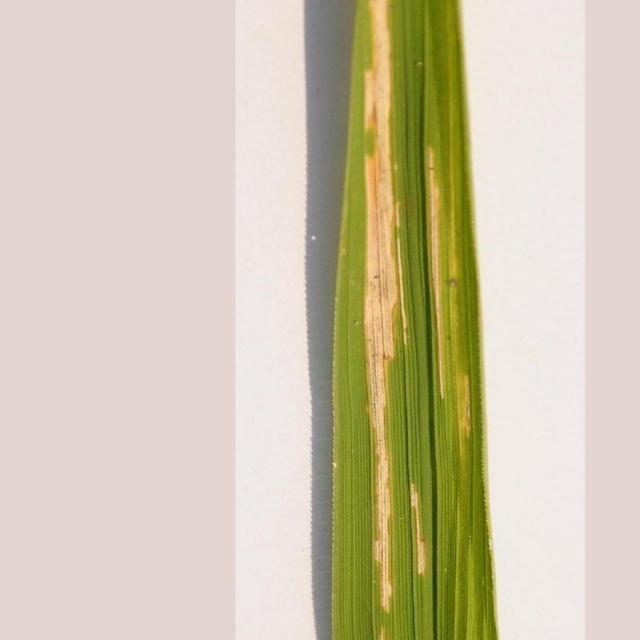leaf blight: (342, 1, 468, 626)
